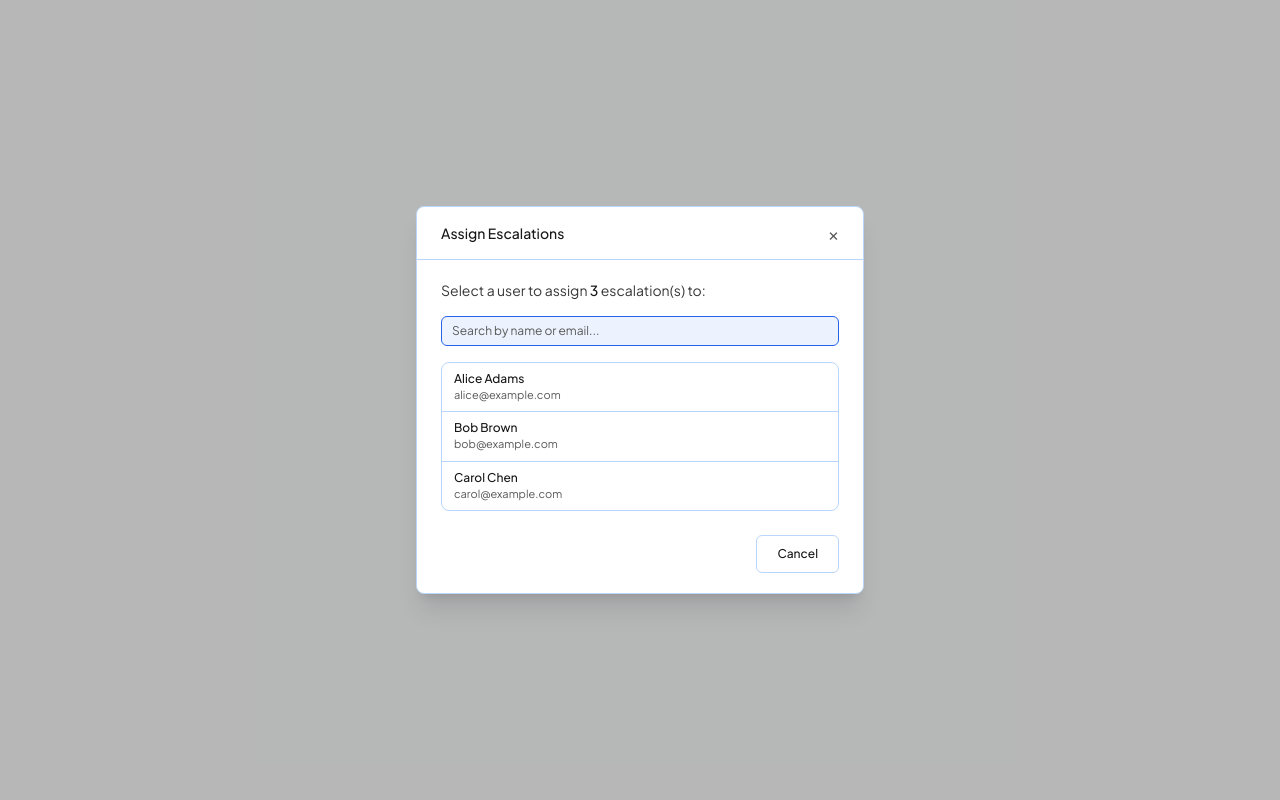
Test: BulkAssignModal › disables Assign button when pending
The width and height of the screenshot is (1280, 800).
What coordinates should you click on to do the following:
click the text "Alice Adams"
I would click on:
 (489, 378)
Its box is [454,371,524,386].
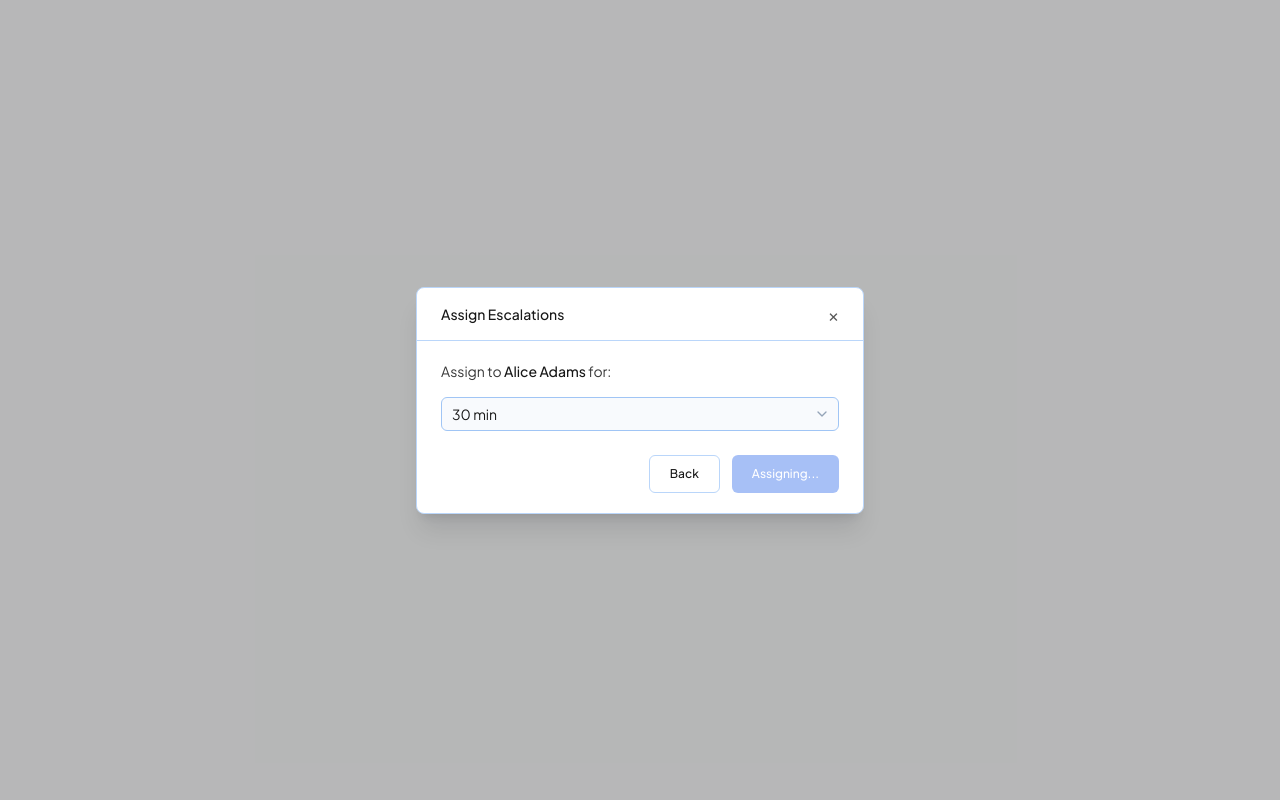
Expected: the button "Assigning..." is disabled, [732,454,839,492]
